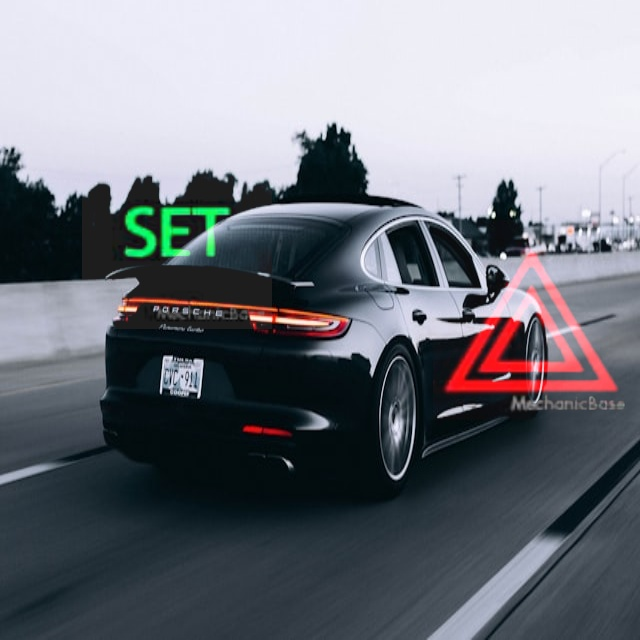symbol: (433, 220, 633, 420), (82, 139, 272, 329)
